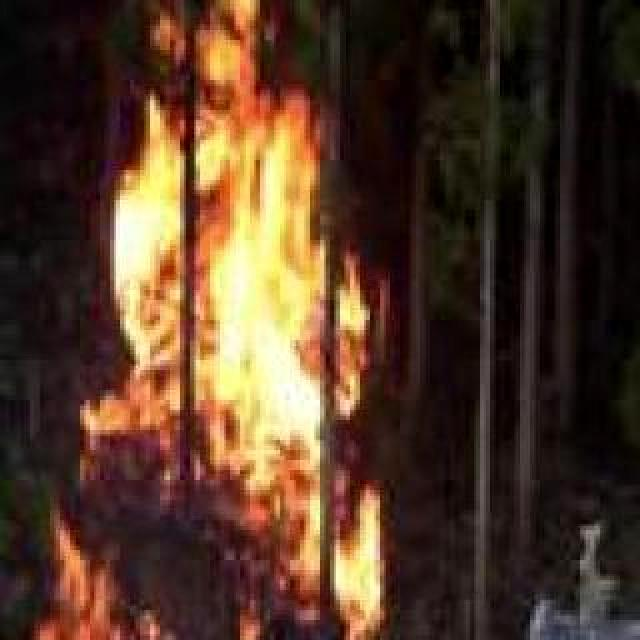fire: (4, 0, 378, 640)
